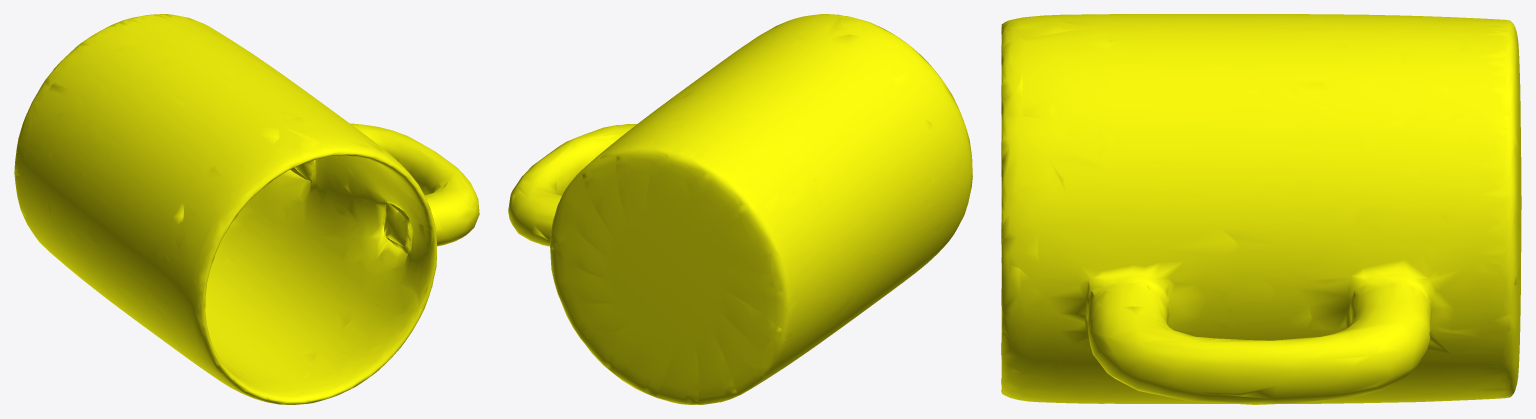
File: coffee_cup_centered.obj
3 views of the same model, side by side, from view 1: azimuth 30°, elevation 25°; view 2: azimuth 150°, elevation 25°; view 3: azimuth 270°, elevation 25° (orthographic). The views are drawn at different scales.
Bounding box in the file's own units: 0.1051 × 0.075 × 0.1.
